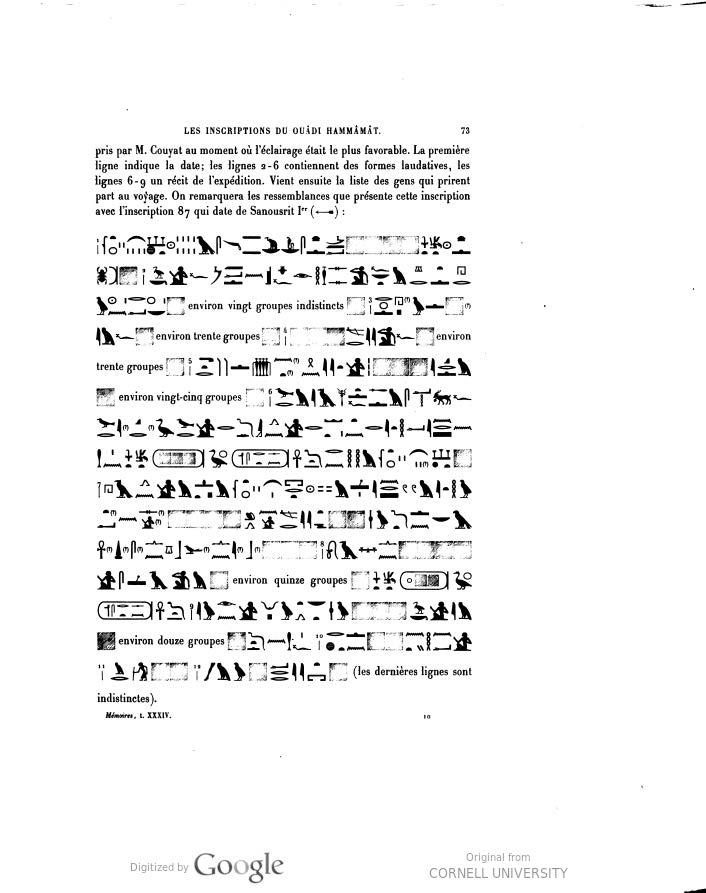circle: (148, 438, 215, 483), (224, 443, 299, 482), (387, 565, 454, 605), (97, 596, 164, 624)
